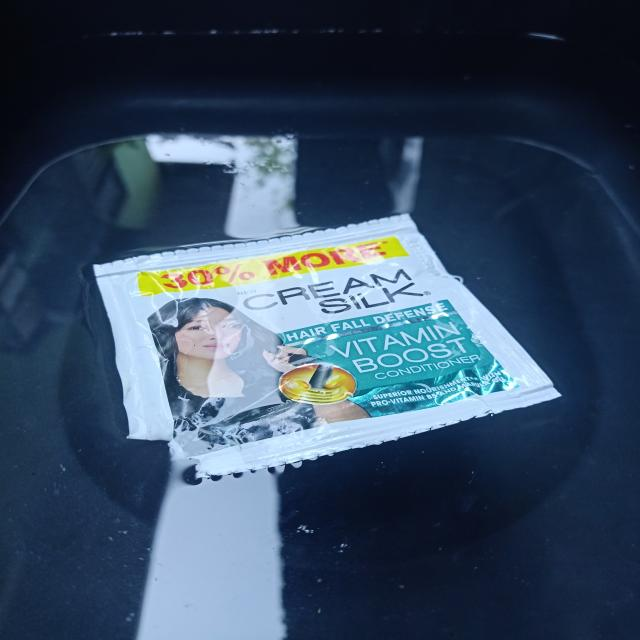Plastic Wrapper: (64, 200, 578, 496)
